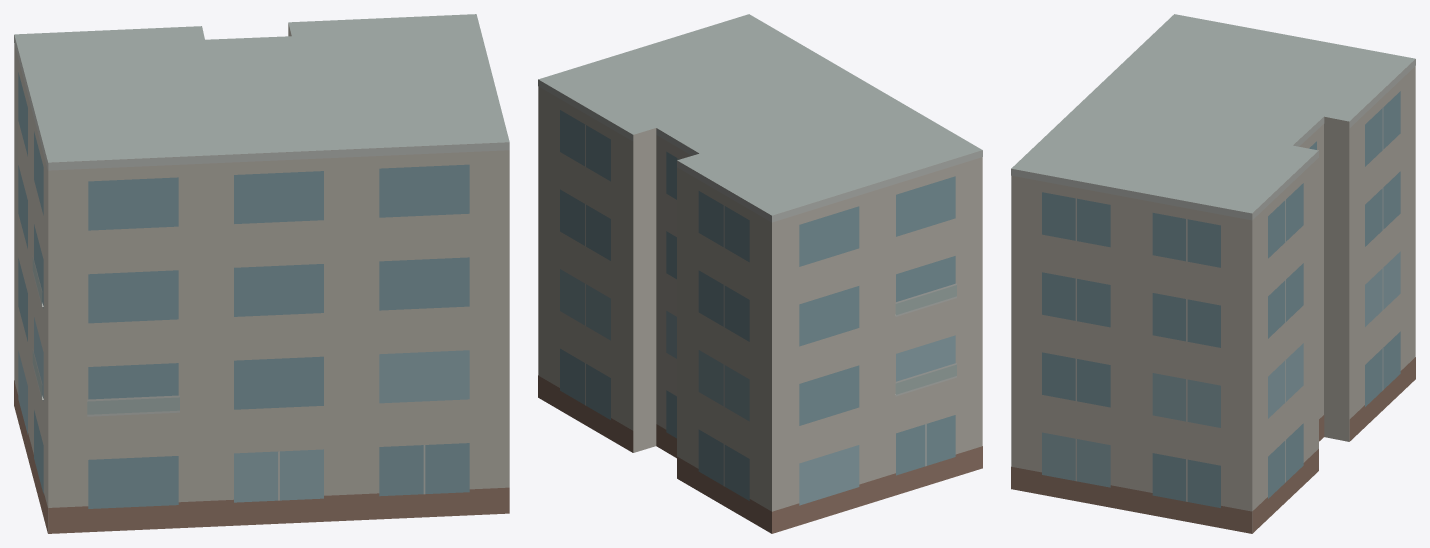
Rendered from survey-upis-32524311.glb.
The picture shows the model from 3 angles, left to right: view 1: azimuth 30°, elevation 25°; view 2: azimuth 150°, elevation 25°; view 3: azimuth 270°, elevation 25°; orthographic projection. The views are drawn at different scales.
Parts seen in each view (by area): view 1: survey-upis-32524311.tmp; view 2: survey-upis-32524311.tmp; view 3: survey-upis-32524311.tmp.
Boxes of the visible parts, x1,y1,x2,y2 form: survey-upis-32524311.tmp: [14, 14, 509, 533]; survey-upis-32524311.tmp: [538, 14, 982, 533]; survey-upis-32524311.tmp: [1011, 14, 1415, 533].
Bounding box in the file's own units: 15.1 × 11.3 × 12.94.
